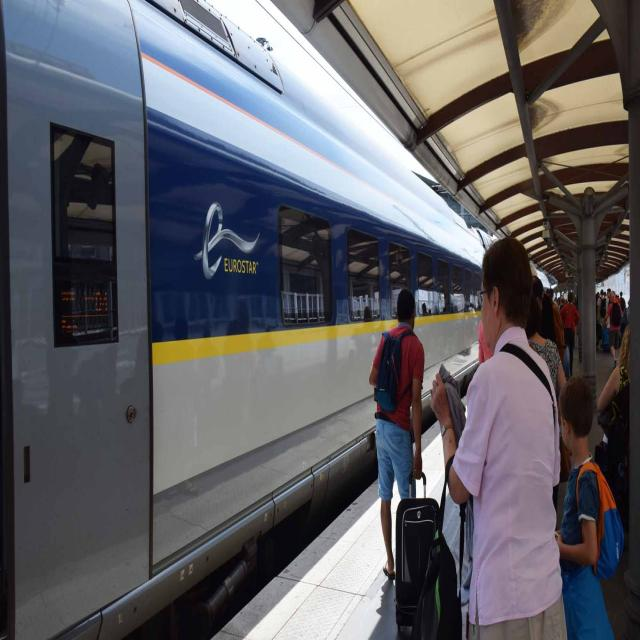body: (433, 231, 569, 639), (350, 267, 638, 347), (554, 372, 626, 640), (367, 286, 429, 584), (596, 322, 631, 528), (523, 289, 569, 400), (560, 290, 580, 378), (604, 289, 624, 369), (478, 315, 494, 365)
